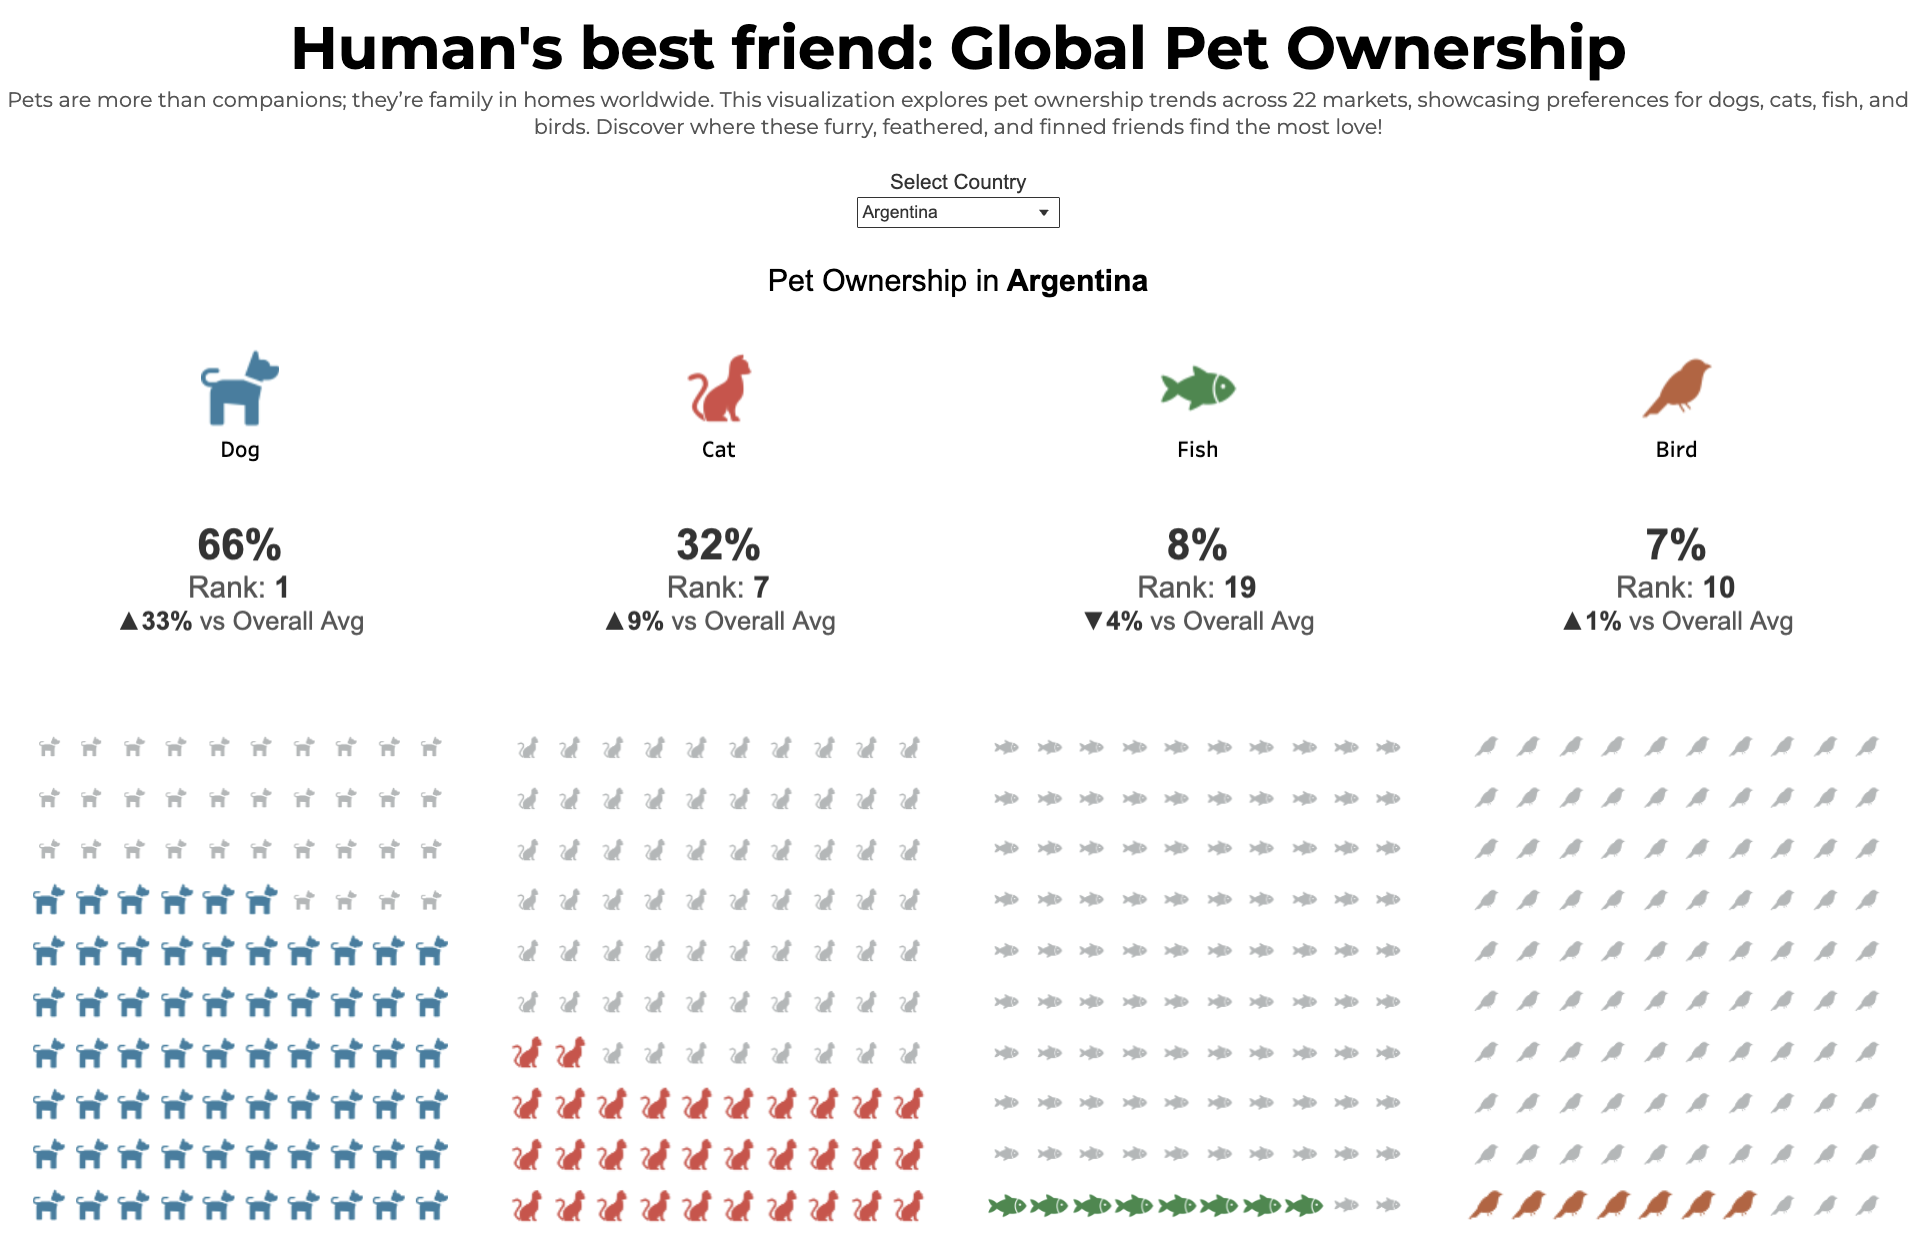

The dashboard page shown, as its layout file describes it:
{"tool":"tableau","page":{"name":"Dashboard 1","canvas":[1209,800],"ordinal":0},"visuals":[{"type":"worksheet","title":"Icons","mark":"Shape","cols":["Pivot Field Names"],"box":[2,109,1205,141]},{"type":"worksheet","title":"Text & Rank","mark":"Automatic","cols":["Pivot Field Names"],"box":[2,250,1205,147]},{"type":"worksheet","title":"Dog Waffle","mark":"Shape","rows":["Row"],"cols":["Column"],"box":[6,401,299.3,393]},{"type":"worksheet","title":"Cat Waffle","mark":"Shape","rows":["Row"],"cols":["Column"],"box":[305.2,401,299.3,393]},{"type":"worksheet","title":"Fish Waffle","mark":"Shape","rows":["Row"],"cols":["Column"],"box":[604.5,401,299.3,393]},{"type":"worksheet","title":"Bird Waffle","mark":"Shape","rows":["Row"],"cols":["Column"],"box":[903.8,401,299.3,393]}]}

Visuals, with their boxes in screenshot pixels (x1, y1, x2, y2), scaled from the page's 1209x800 canvas onto the 1920x1252 screenshot:
"Icons" worksheet (Shape marks): x1=3 y1=171 x2=1917 y2=391
"Text & Rank" worksheet: x1=3 y1=391 x2=1917 y2=621
"Dog Waffle" worksheet (Shape marks): x1=10 y1=628 x2=485 y2=1243
"Cat Waffle" worksheet (Shape marks): x1=485 y1=628 x2=960 y2=1243
"Fish Waffle" worksheet (Shape marks): x1=960 y1=628 x2=1435 y2=1243
"Bird Waffle" worksheet (Shape marks): x1=1435 y1=628 x2=1911 y2=1243
